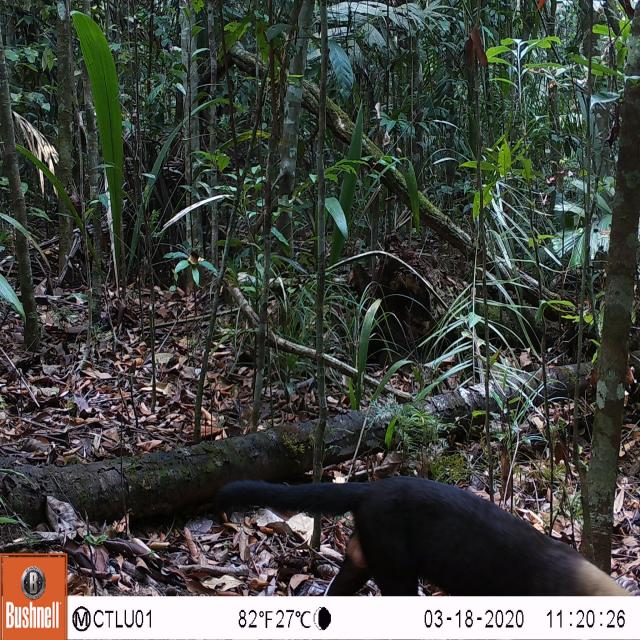Tayra: (210, 471, 635, 596)
